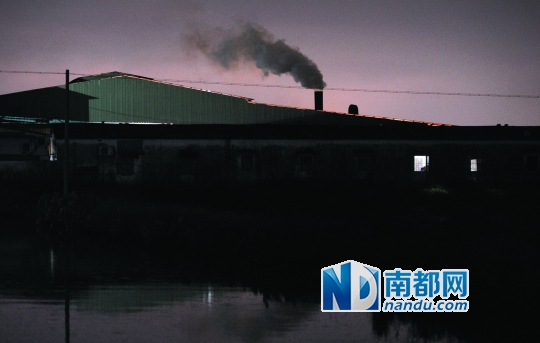dust: (195, 27, 330, 96)
